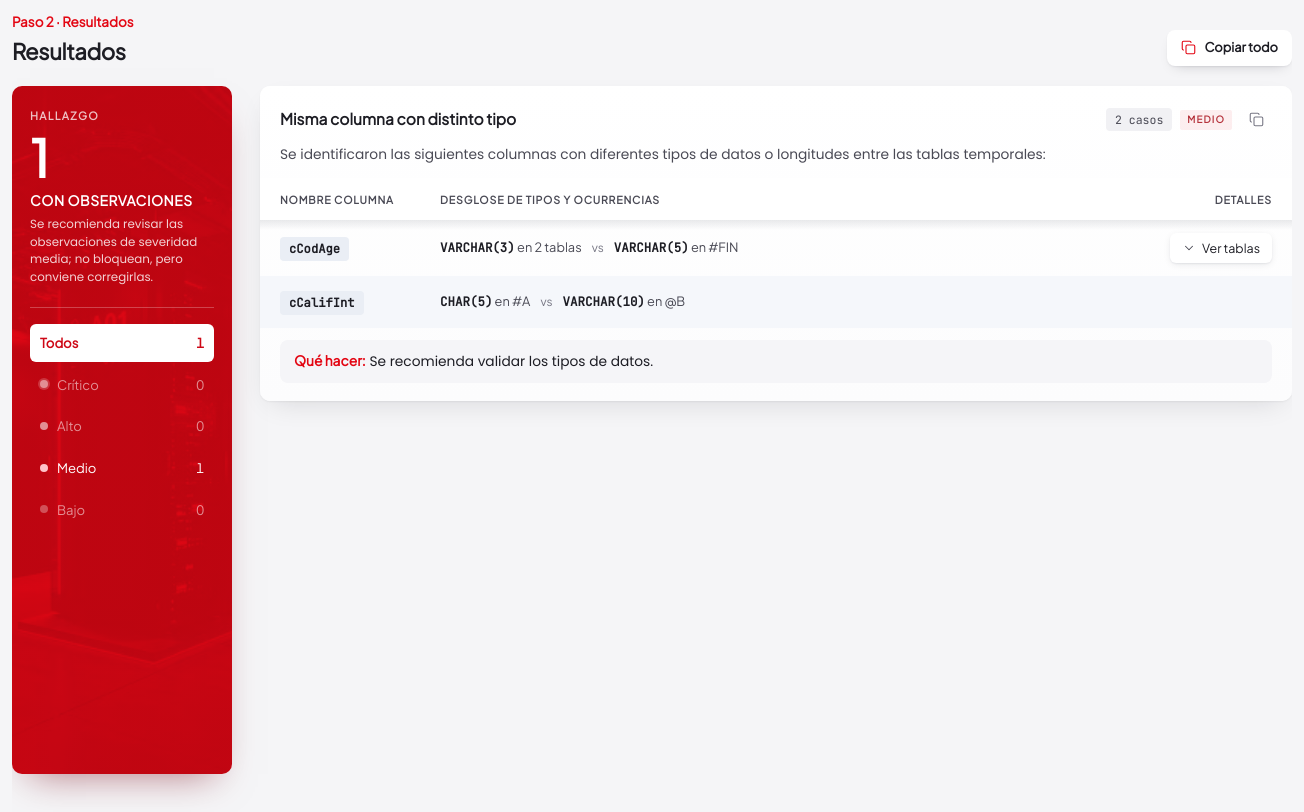
Test case: PanelHallazgos · «Misma columna con distinto tipo» como tabla › muestra una fila por columna con su desglose y abre el detalle con «Ver tablas»
The width and height of the screenshot is (1304, 812).
Expected: the text "2 casos" is shown, [1106, 108, 1172, 131]
Expected: the text "Se identificaron las siguientes columnas" is shown, [280, 145, 1046, 164]
Click the button "Ver tablas": [1221, 248] box [1170, 232, 1272, 263]
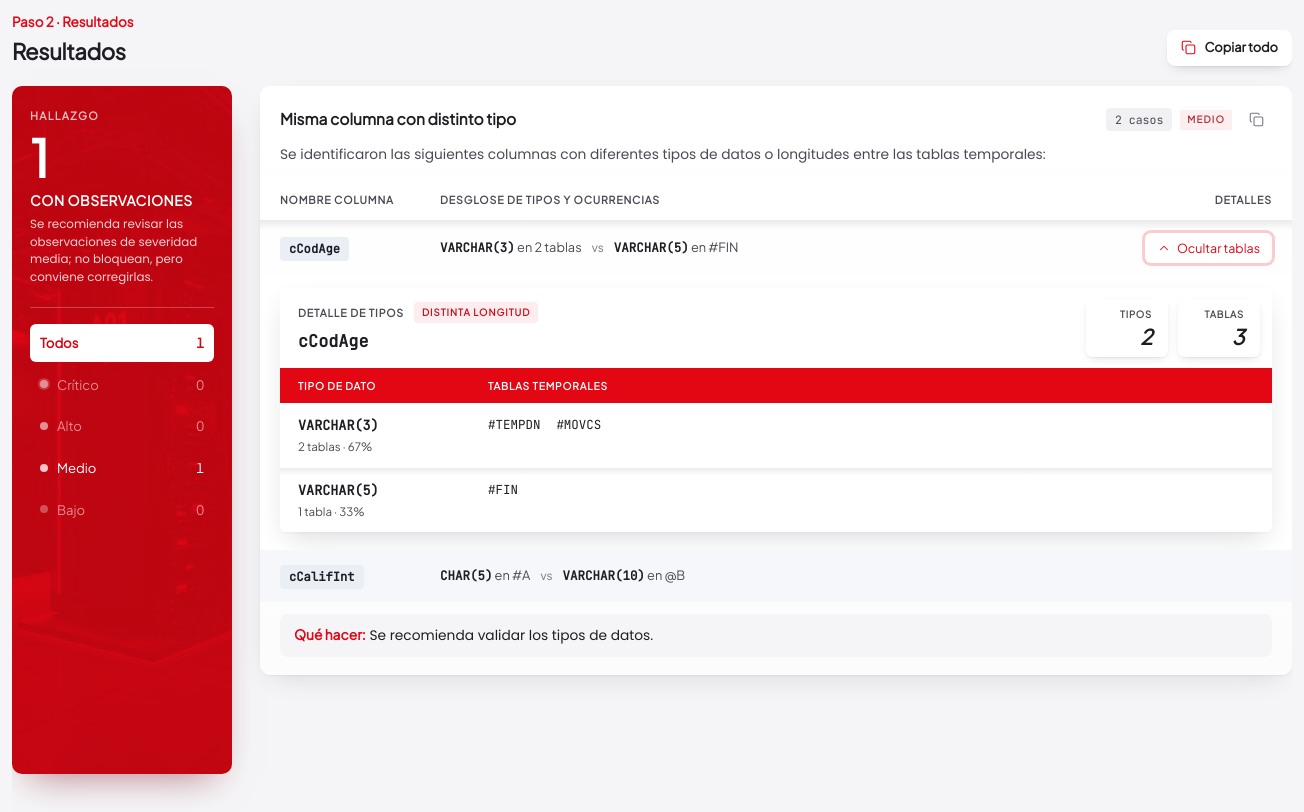
Result: the text "Distinta longitud" is shown at [414, 302, 538, 323]
Result: the text "2" is shown at [1140, 323, 1152, 350]
Result: the text "3" is shown at [1232, 323, 1244, 350]
Click the button "Ocultar tablas": [1208, 248] box [1145, 232, 1272, 263]
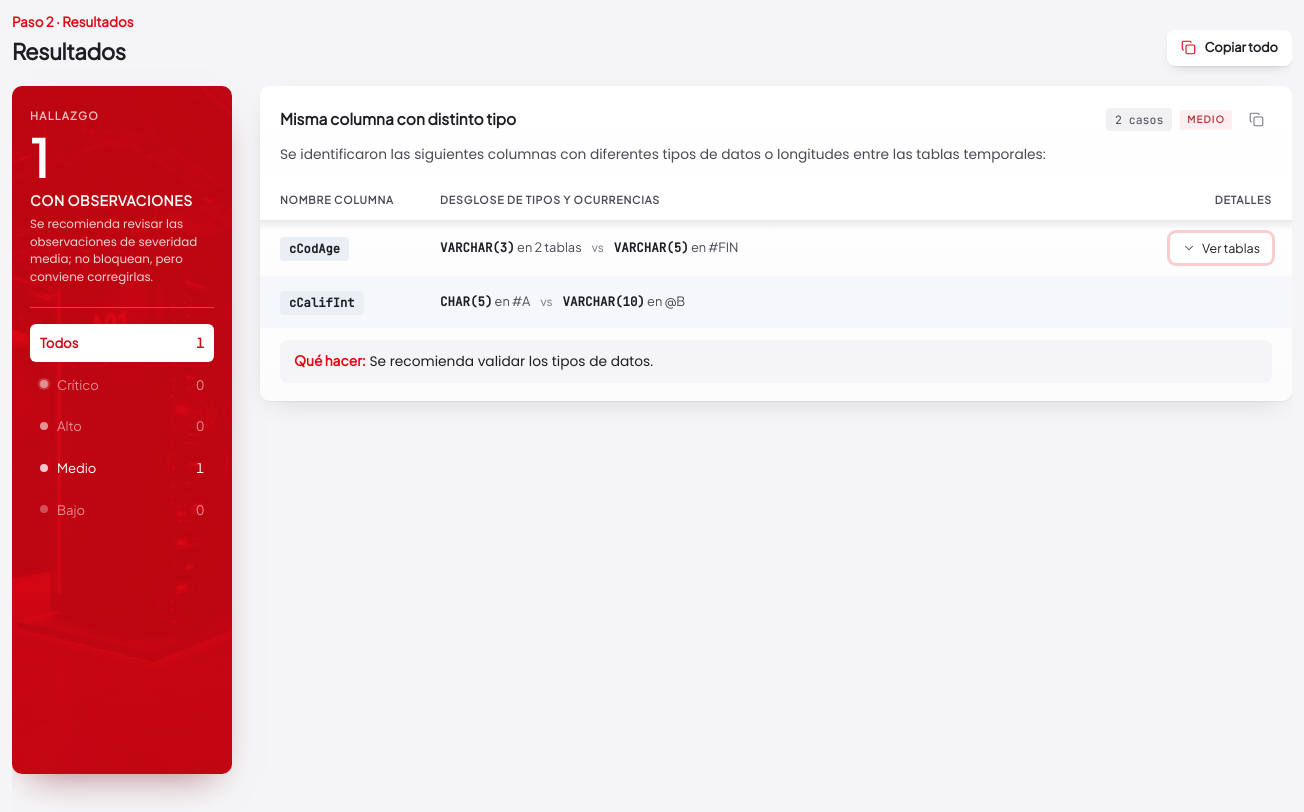
Result: the text "Distinta longitud" is gone
